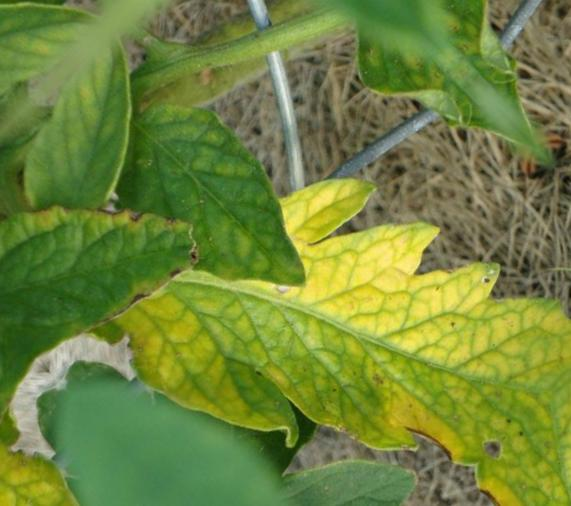Tomato mold leaf: (88, 40, 571, 506), (72, 57, 347, 334), (0, 113, 222, 395)
